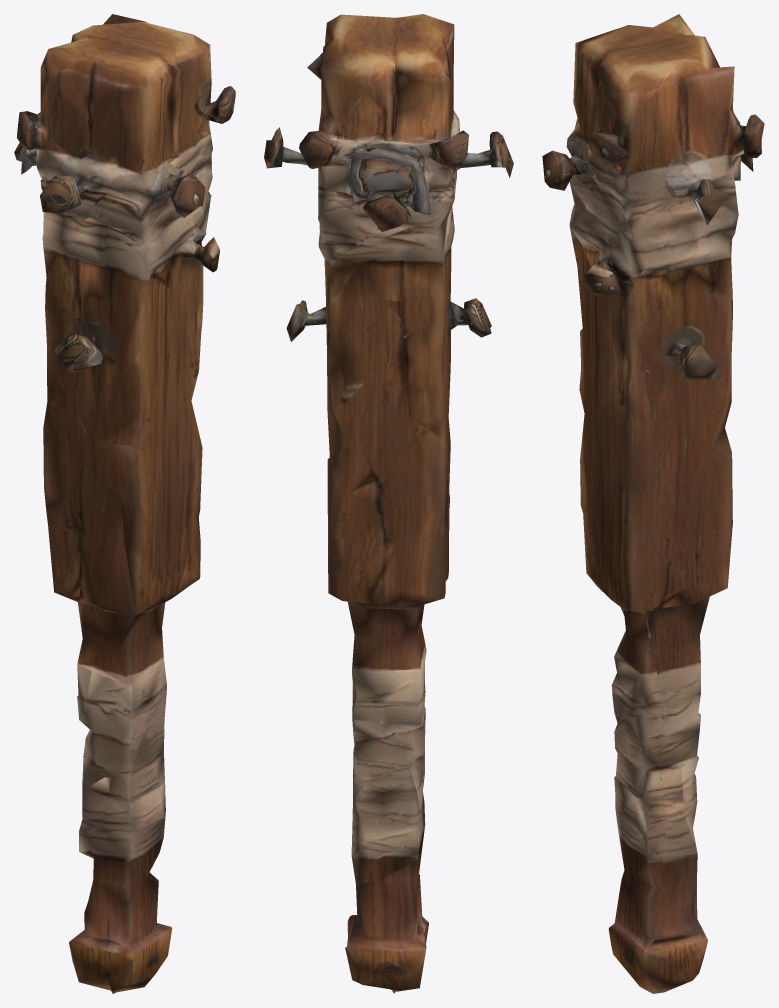
Rendered from 1491_club.glb.
3 views of the same model, side by side, from view 1: azimuth 30°, elevation 25°; view 2: azimuth 150°, elevation 25°; view 3: azimuth 270°, elevation 25° (orthographic).
Visible parts, largest first — view 1: Model; view 2: Model; view 3: Model.
Boxes of the visible parts, bbox=[...] form: Model: bbox=[14, 14, 235, 993]; Model: bbox=[264, 14, 513, 993]; Model: bbox=[542, 14, 764, 993].
Bounding box in the file's own units: 0.2192 × 1 × 0.2126.
Materials: 1 (1 with a texture image).
